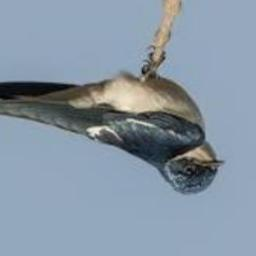Swallow: (0, 60, 224, 195)
